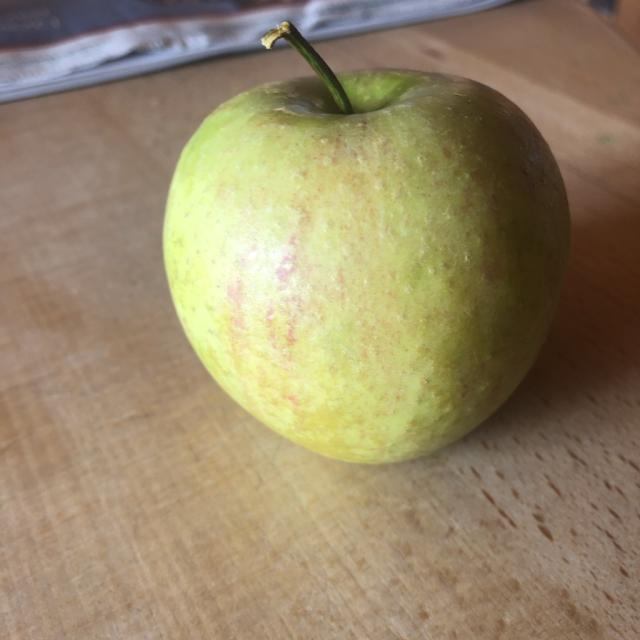Apple: (156, 14, 580, 475)
